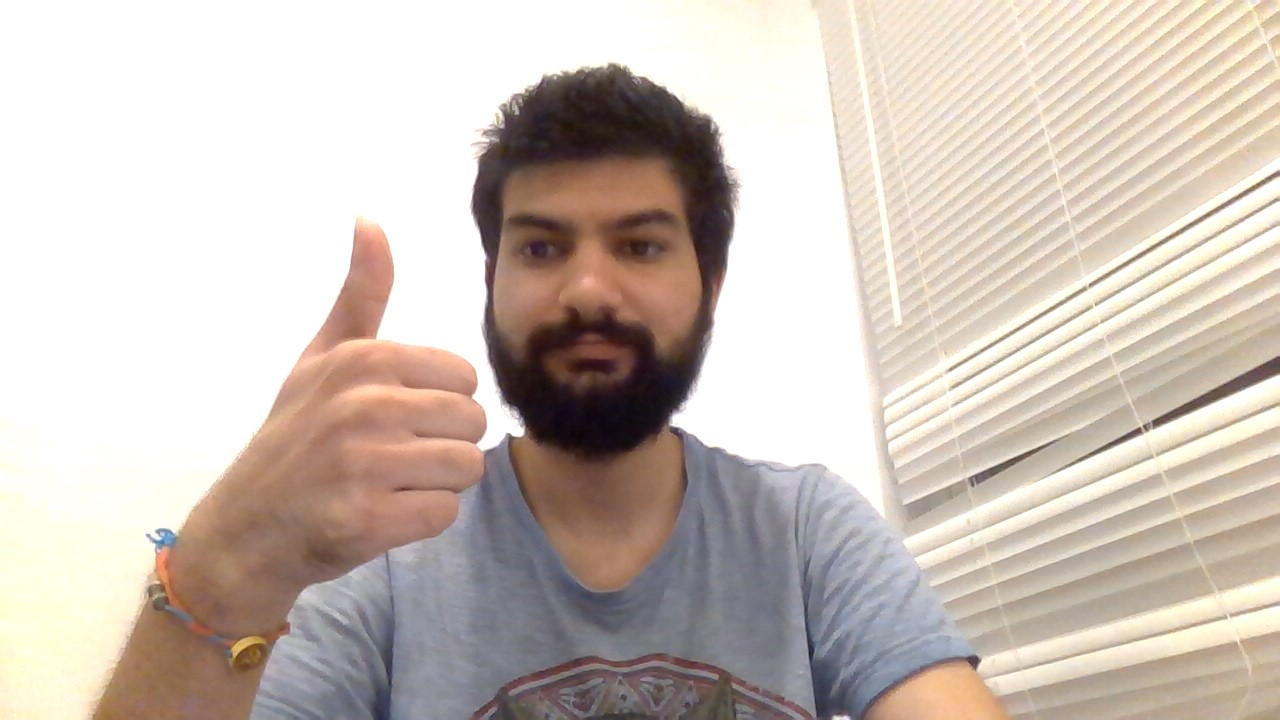up: (266, 212, 512, 578)
